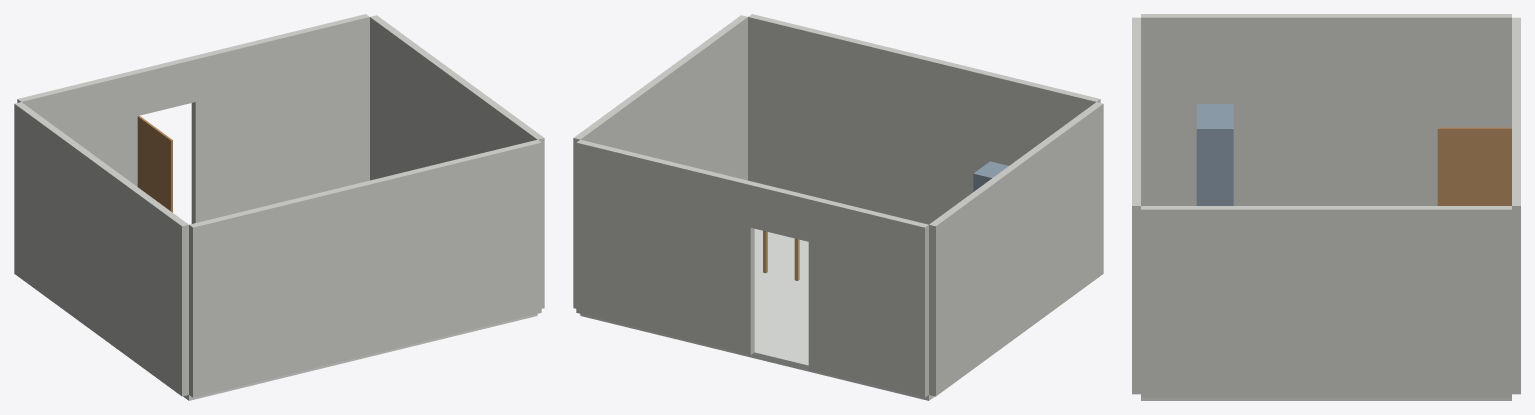
The picture shows the model from 3 angles, left to right: view 1: azimuth 30°, elevation 25°; view 2: azimuth 150°, elevation 25°; view 3: azimuth 270°, elevation 25°; orthographic projection. The views are drawn at different scales.
Parts seen in each view (by area): view 1: room:north:full, room:west:full, room:south:high, room:east:full, room:south:low, room:south:lintel, door:leaf, room:floor; view 2: room:north:full, room:south:high, room:west:full, room:south:low, room:east:full, room:floor, room:south:lintel, obstacle:cabinet-1; view 3: room:east:full, room:west:full, door:leaf, obstacle:cabinet-1, room:north:full, room:south:high, room:floor, room:south:low.
Boxes of the visible parts, x1,y1,x2,y2 form: room:north:full: (189,139,541,397); room:west:full: (14,102,188,396); room:south:high: (191,14,369,223); room:east:full: (370,15,544,308); room:south:low: (17,70,137,186); room:south:lintel: (134,56,195,115); door:leaf: (137,115,172,212); room:floor: (183,314,537,400); room:north:full: (748,14,1100,224); room:south:high: (576,139,754,355); room:west:full: (929,102,1103,396); room:south:low: (808,196,928,397); room:east:full: (573,15,747,308); room:floor: (580,229,934,400); room:south:lintel: (750,182,812,241); obstacle:cabinet-1: (973,161,1008,191); room:east:full: (1141,206,1511,397); room:west:full: (1141,14,1511,205); door:leaf: (1437,127,1511,205); obstacle:cabinet-1: (1196,104,1233,205); room:north:full: (1132,17,1140,394); room:south:high: (1512,112,1520,394); room:floor: (1141,398,1511,400); room:south:low: (1512,17,1520,80).
Size of the model in its own units: 6.24 by 2.9 by 5.24.
